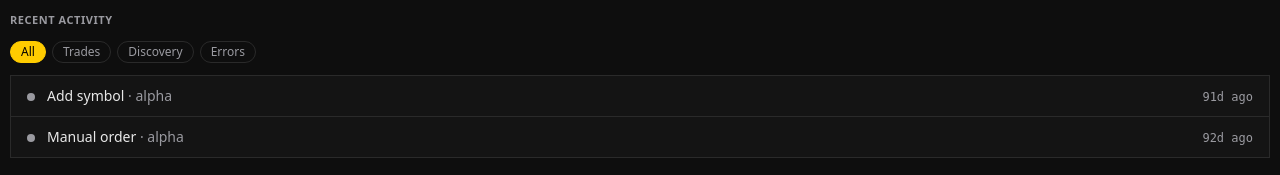
Test: <ActivityFeed> › filters the feed to a category chip and keeps it under "all"
Expected: the text "Add symbol" is shown, 47,86 -> 124,104
Expected: the text "Manual order" is shown, 47,126 -> 136,146
Note: Discovery chip: add-symbol stays, manual-order (a trade) drops out.
Click the tab with test id "activity-filter-discovery" at (155, 52), box 117,40 -> 194,62
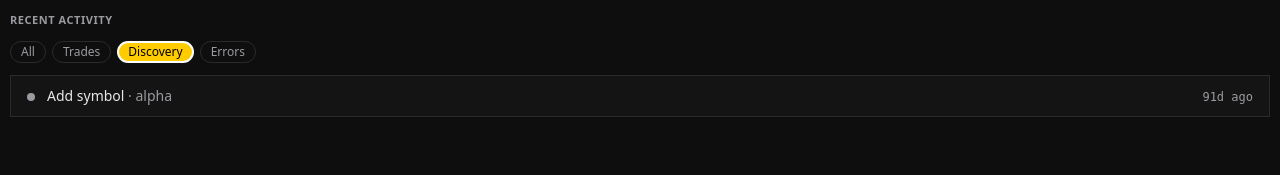
Expected: the text "Add symbol" is shown, 47,86 -> 124,104
Expected: the text "Manual order" is gone
Note: Trades chip: the discovery event is hidden, manual-order returns.
Click the tab with test id "activity-filter-trades" at (82, 52), box 52,40 -> 111,62
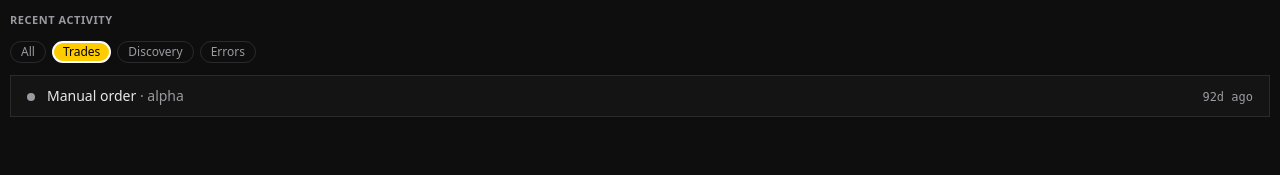
Expected: the text "Add symbol" is gone
Expected: the text "Manual order" is shown, 47,86 -> 136,104
